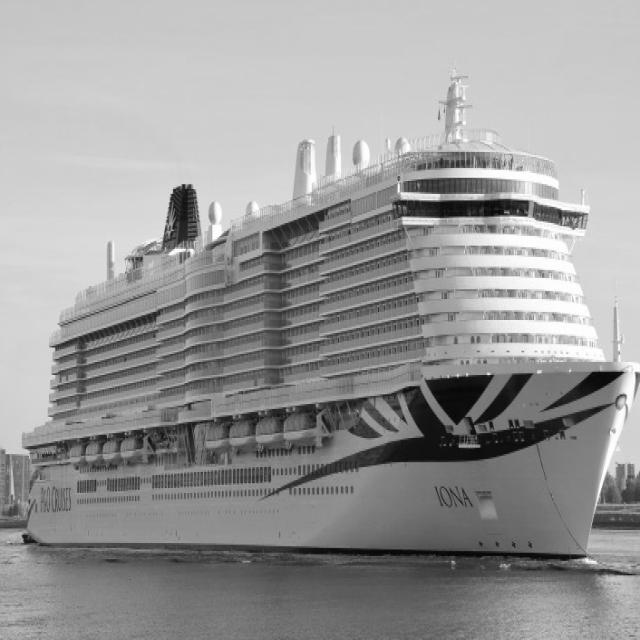cruises: (18, 58, 640, 572)
